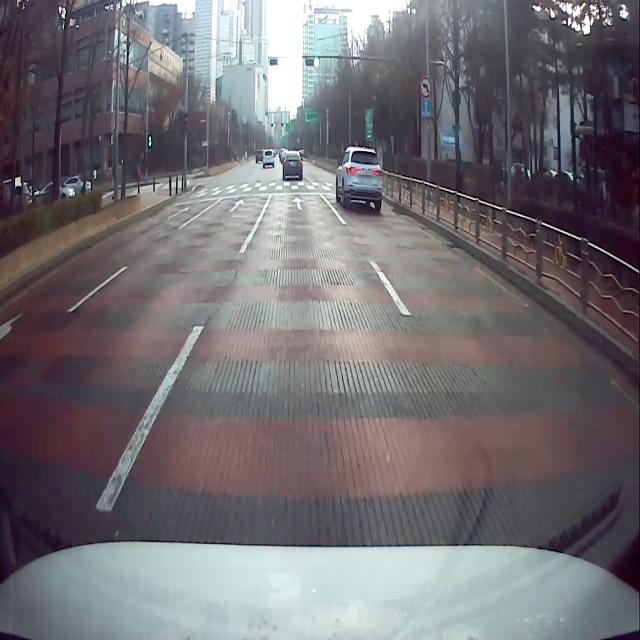Green Light: (313, 57, 319, 68), (277, 56, 283, 66)
